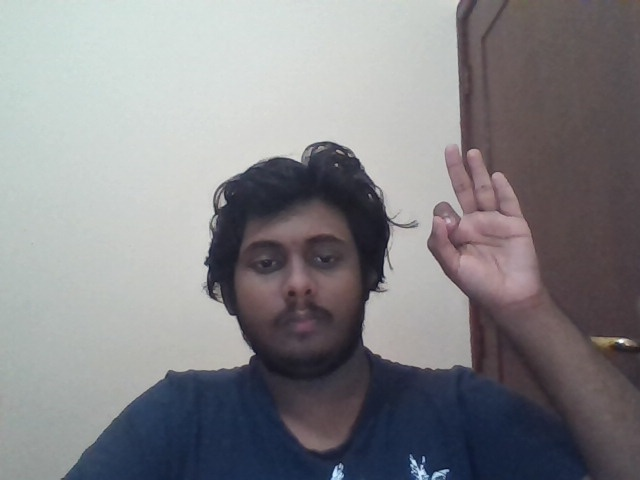ok: (426, 142, 543, 310)
